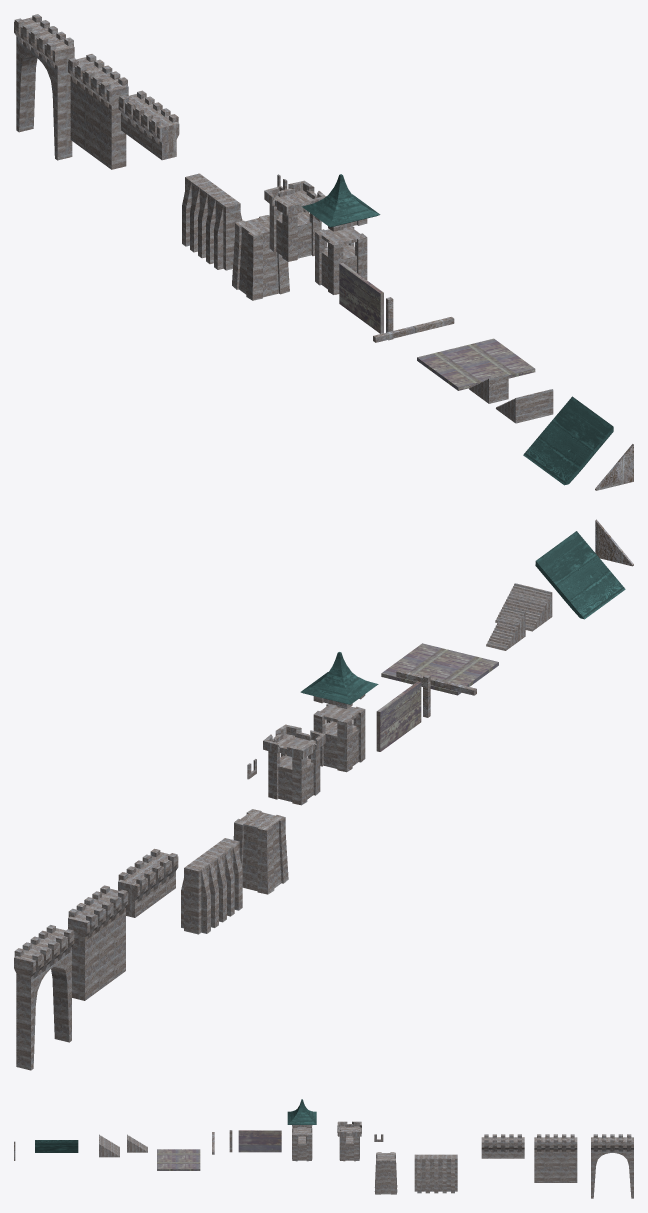
The model's file is CastleParts.fbx.
3 renders of one model, top to bottom at view 1: azimuth 30°, elevation 25°; view 2: azimuth 150°, elevation 25°; view 3: azimuth 270°, elevation 25°, orthographic. The views are drawn at different scales.
Visible parts, largest first — view 1: Arch.003, Wall.005, Wall.009, WallBase.001, TowerBase, Tower, Wall.008, Wall, Tower.001, TowerRoof, Wall.002, Wall.007 (+3 smaller); view 2: Arch.003, Wall.005, WallBase.001, Wall.009, Tower, TowerBase, Wall.008, Tower.001, Wall, Wall.002, TowerRoof, Wall.007 (+2 smaller); view 3: Wall.005, WallBase.001, Arch.003, Wall, Wall.002, Wall.008, TowerBase, Tower, Tower.001, Wall.009, TowerRoof, Wall.007 (+1 smaller).
Boxes of the visible parts, x1=… form: Arch.003: x1=14, y1=14, x2=74, y2=160; Wall.005: x1=68, y1=54, x2=128, y2=169; Wall.009: x1=523, y1=396, x2=613, y2=485; WallBase.001: x1=182, y1=173, x2=242, y2=270; TowerBase: x1=232, y1=215, x2=289, y2=300; Tower: x1=264, y1=180, x2=325, y2=261; Wall.008: x1=417, y1=338, x2=535, y2=390; Wall: x1=118, y1=90, x2=179, y2=160; Tower.001: x1=315, y1=226, x2=367, y2=294; TowerRoof: x1=302, y1=174, x2=380, y2=231; Wall.002: x1=339, y1=262, x2=383, y2=333; Wall.007: x1=496, y1=389, x2=553, y2=423; Arch.003: x1=14, y1=925, x2=74, y2=1070; Wall.005: x1=68, y1=885, x2=128, y2=1000; WallBase.001: x1=181, y1=838, x2=242, y2=934; Wall.009: x1=535, y1=531, x2=625, y2=619; Tower: x1=263, y1=724, x2=325, y2=805; TowerBase: x1=233, y1=809, x2=288, y2=894; Wall.008: x1=381, y1=643, x2=498, y2=695; Tower.001: x1=313, y1=703, x2=365, y2=772; Wall: x1=118, y1=848, x2=178, y2=917; Wall.002: x1=376, y1=681, x2=421, y2=751; TowerRoof: x1=300, y1=652, x2=378, y2=708; Wall.007: x1=495, y1=583, x2=552, y2=631; Wall.005: x1=534, y1=1134, x2=577, y2=1182; WallBase.001: x1=414, y1=1154, x2=457, y2=1193; Arch.003: x1=591, y1=1134, x2=633, y2=1198; Wall: x1=481, y1=1134, x2=524, y2=1158; Wall.002: x1=238, y1=1130, x2=281, y2=1152; Wall.008: x1=157, y1=1149, x2=200, y2=1170; TowerBase: x1=374, y1=1152, x2=397, y2=1194; Tower: x1=337, y1=1121, x2=361, y2=1161; Tower.001: x1=292, y1=1127, x2=312, y2=1161; Wall.009: x1=35, y1=1140, x2=78, y2=1152; TowerRoof: x1=287, y1=1099, x2=316, y2=1127; Wall.007: x1=99, y1=1134, x2=119, y2=1157.
Size of the model in its own units: 1453 by 2413 by 13919.
